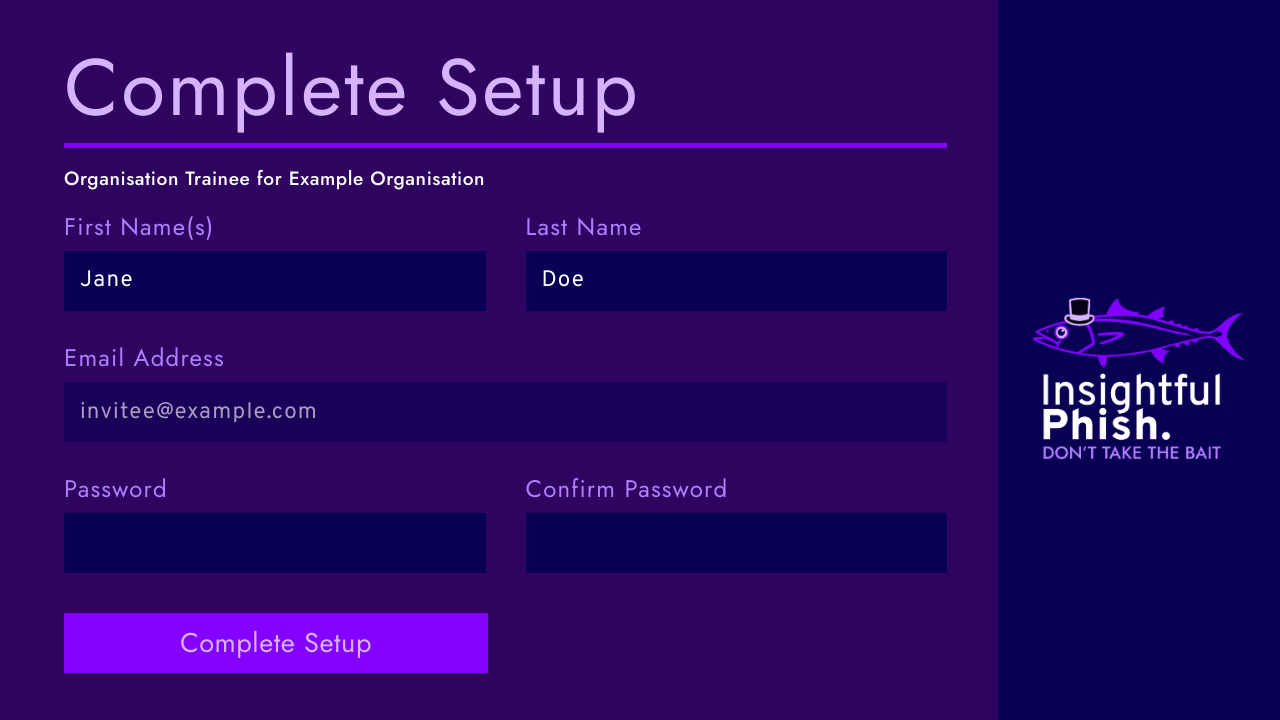
Test: SetupPage › blocks submit when password and confirm password do not match
Expected: the field showing "invitee@example.com" is shown, [64, 382, 947, 442]
Type "ThisIsA$StrongPassword!301301!" into the password field labelled "Password" at (275, 543), box [64, 513, 486, 573]
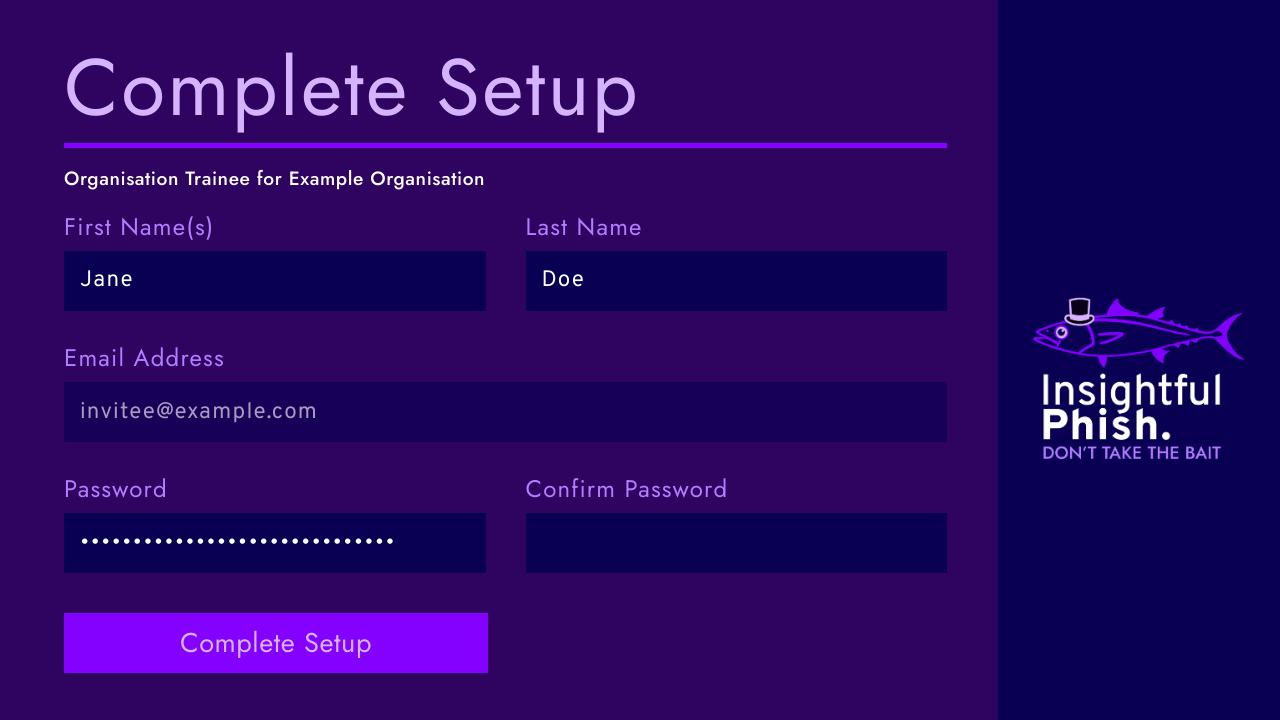
Type "DifferentPass123!" into the password field labelled "Confirm Password" at (736, 543), box [526, 513, 947, 573]
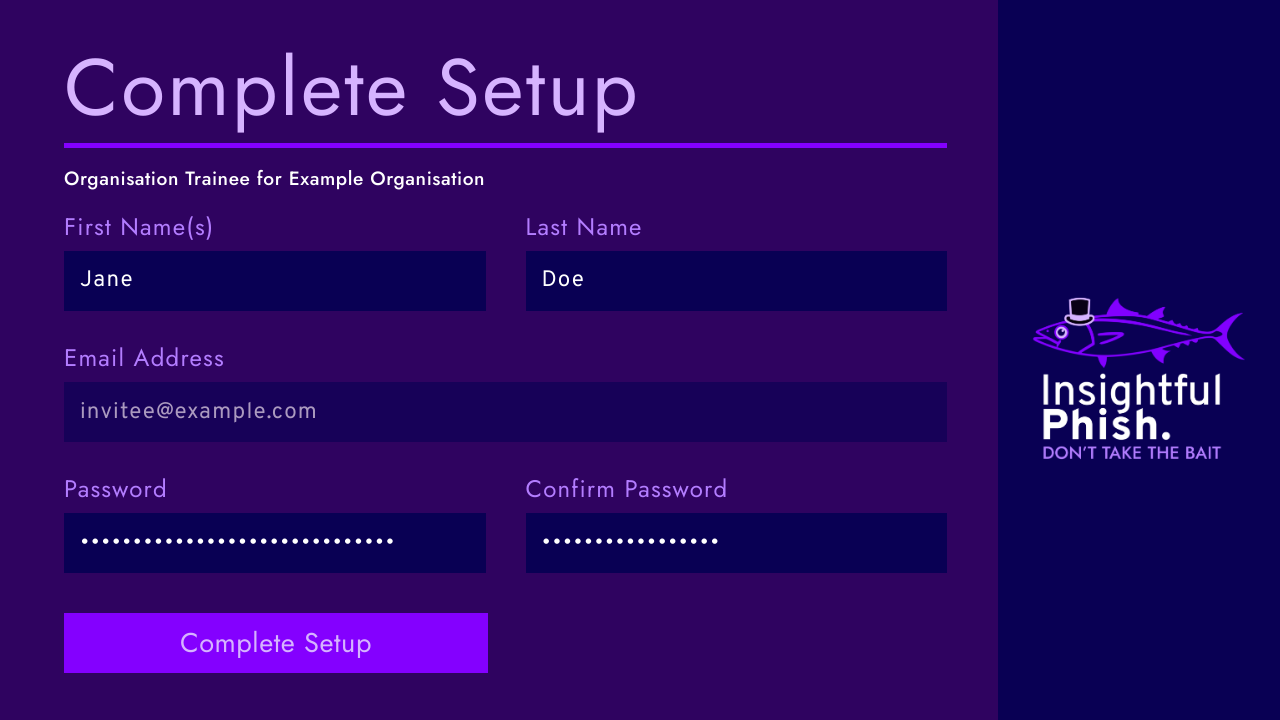
Click the button "Complete Setup" at (276, 643), box [64, 613, 488, 673]
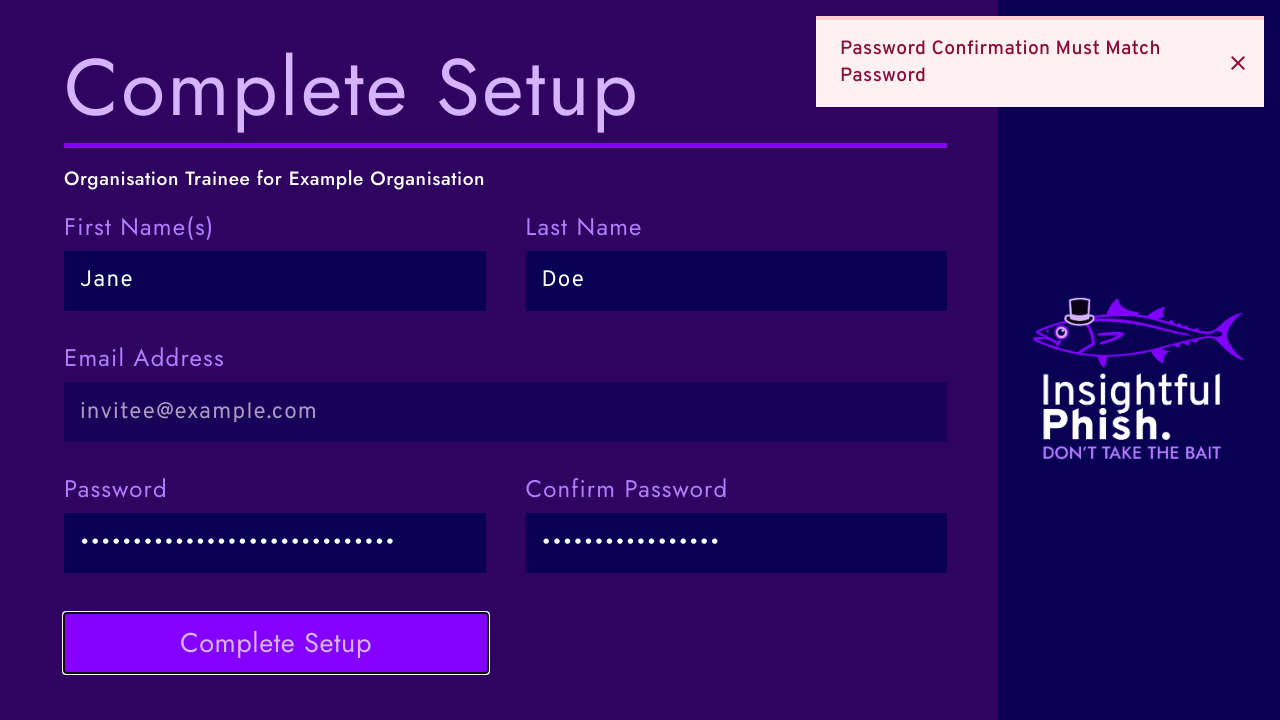
Result: the text "Password Confirmation Must Match Password" is shown at [840, 37, 1161, 88]
